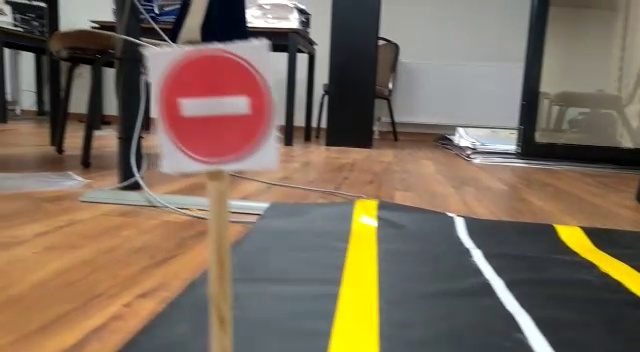girisi_olmayan_yol: (154, 51, 271, 167)
